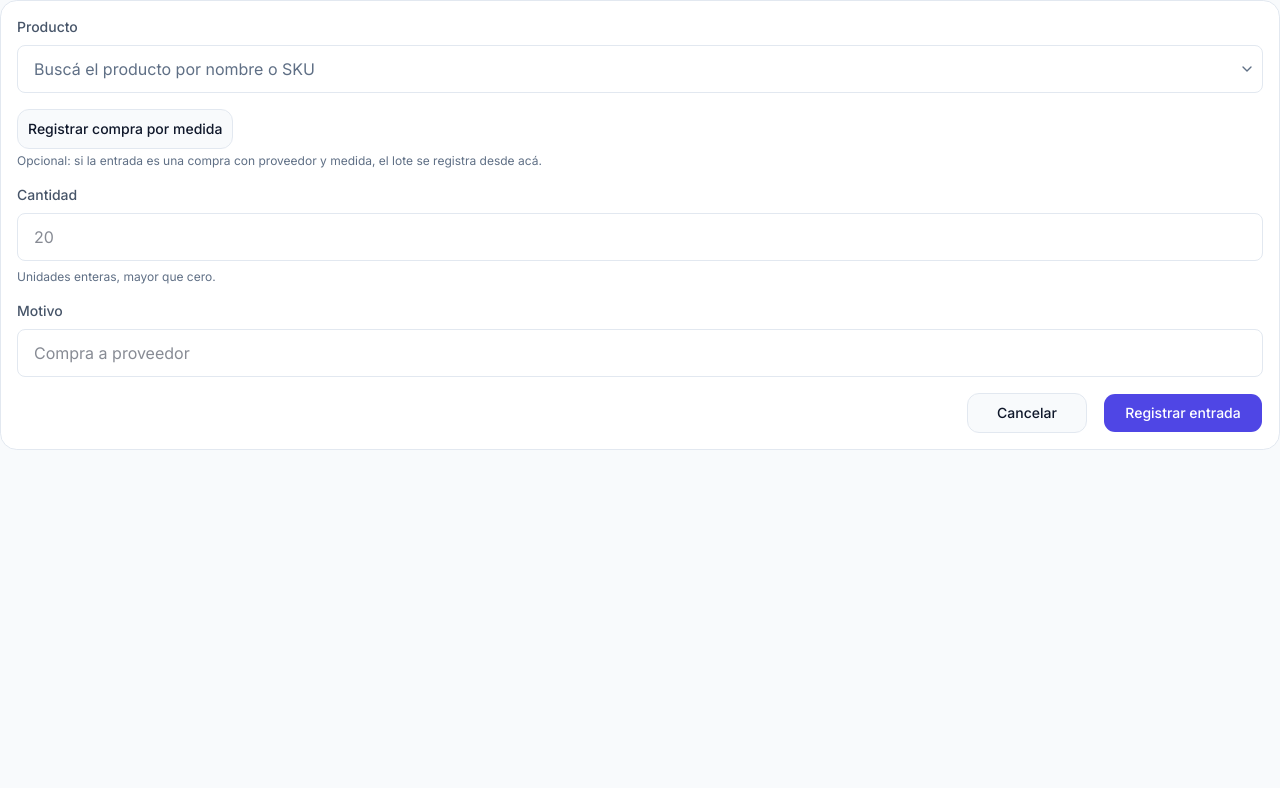
Test: MovementEntryStockForm › disables the quantity while the block is open: the quantity is the measures
Click the button "Registrar compra por medida". click: (125, 129)
box: [17, 109, 233, 149]
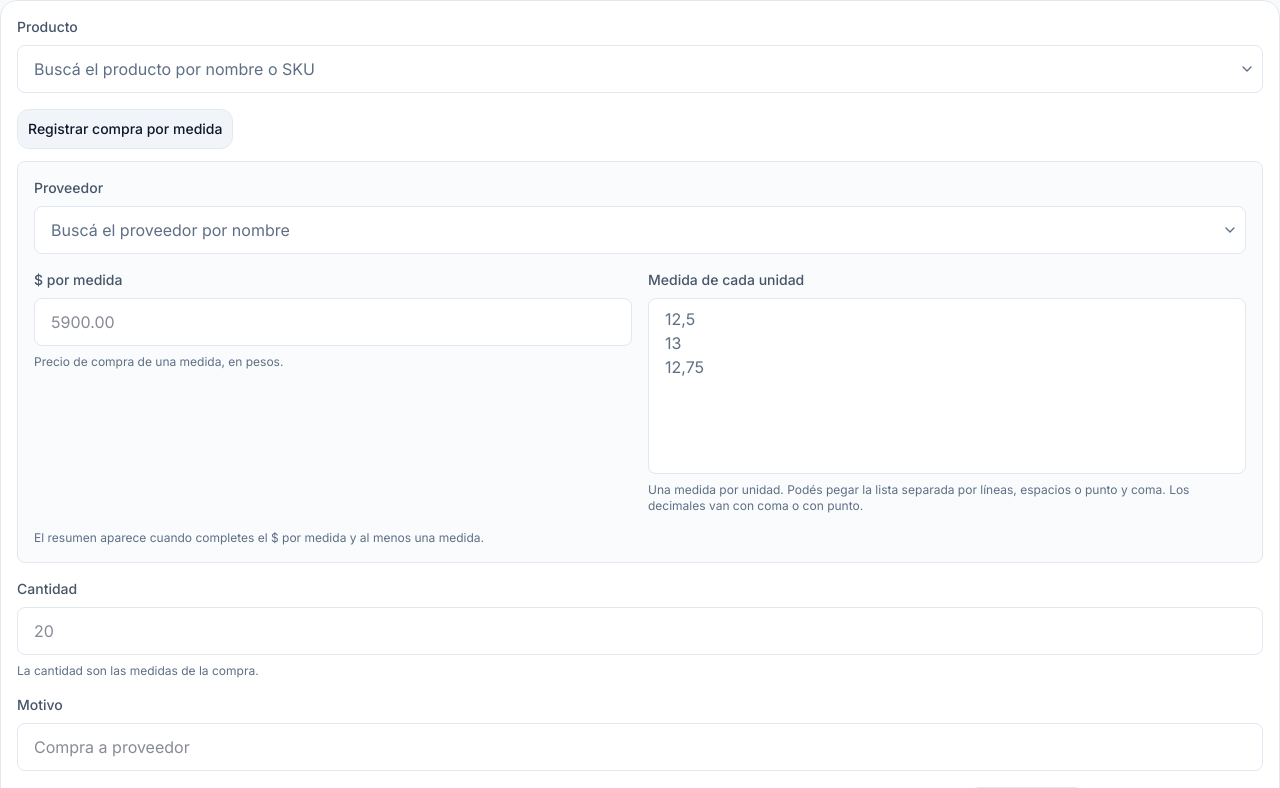
Check: the field labelled "Cantidad" is disabled, box [17, 607, 1263, 655]
